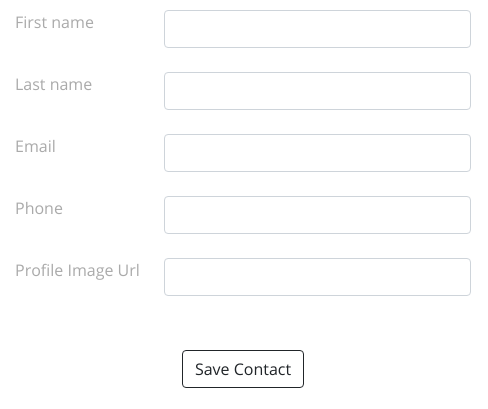
EditContactForm › has last name error message when First Name is filled
Type "First" into the field labelled "First name" at {"x": 318, "y": 29}, box [164, 10, 471, 48]
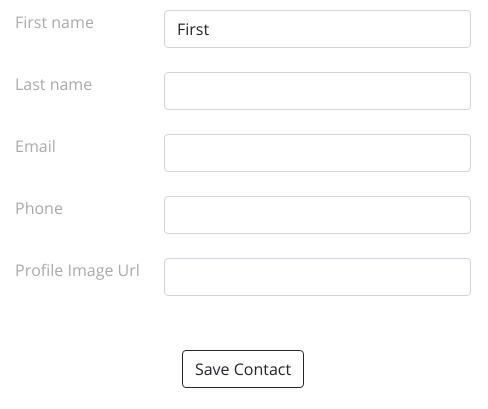
Click the button at {"x": 243, "y": 369}, box [182, 350, 304, 388]
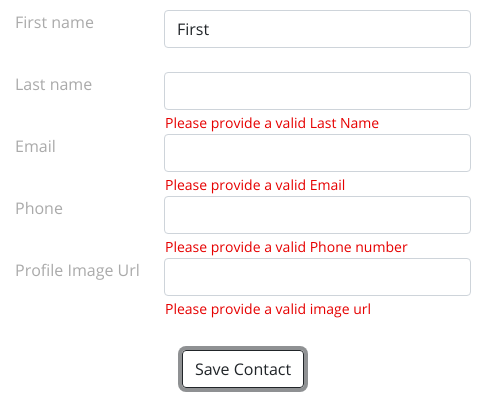
Now the text "Please provide a valid Last Name" is shown, box [165, 113, 379, 132]
